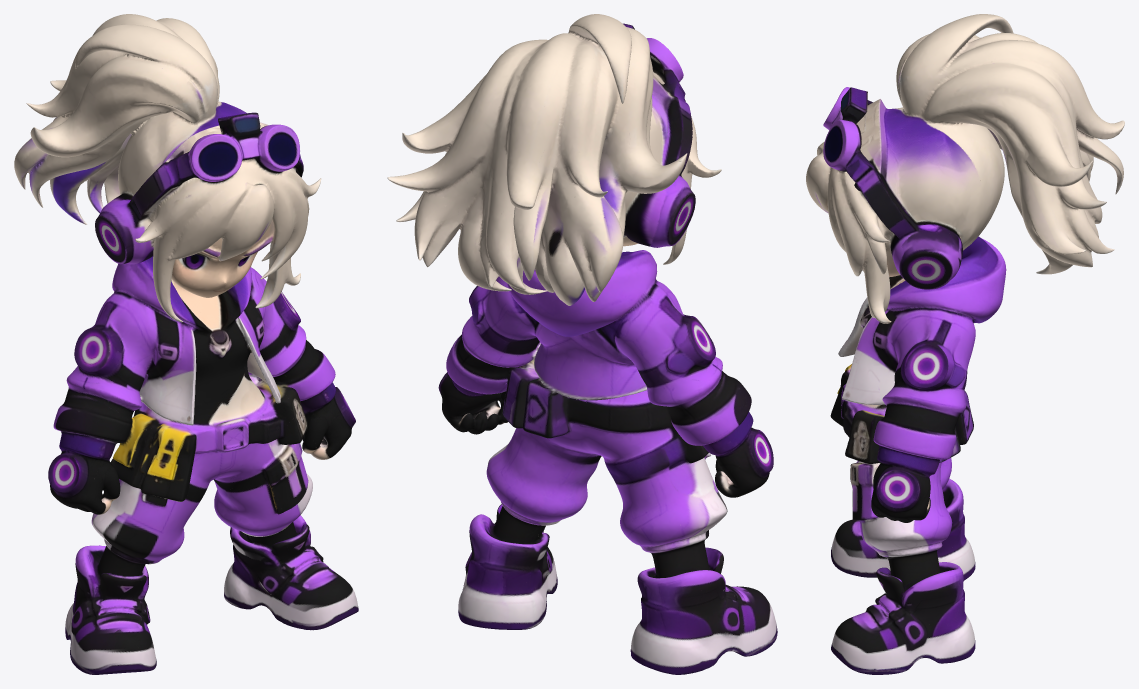
Rendered from nova_meshy.glb.
The picture shows the model from 3 angles, left to right: view 1: azimuth 30°, elevation 25°; view 2: azimuth 150°, elevation 25°; view 3: azimuth 270°, elevation 25°; orthographic projection. The views are drawn at different scales.
Size of the model in its own units: 1.02 by 1.9 by 0.9543.
1 material, 1 textured.
